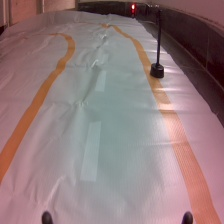red: (128, 1, 166, 79)
